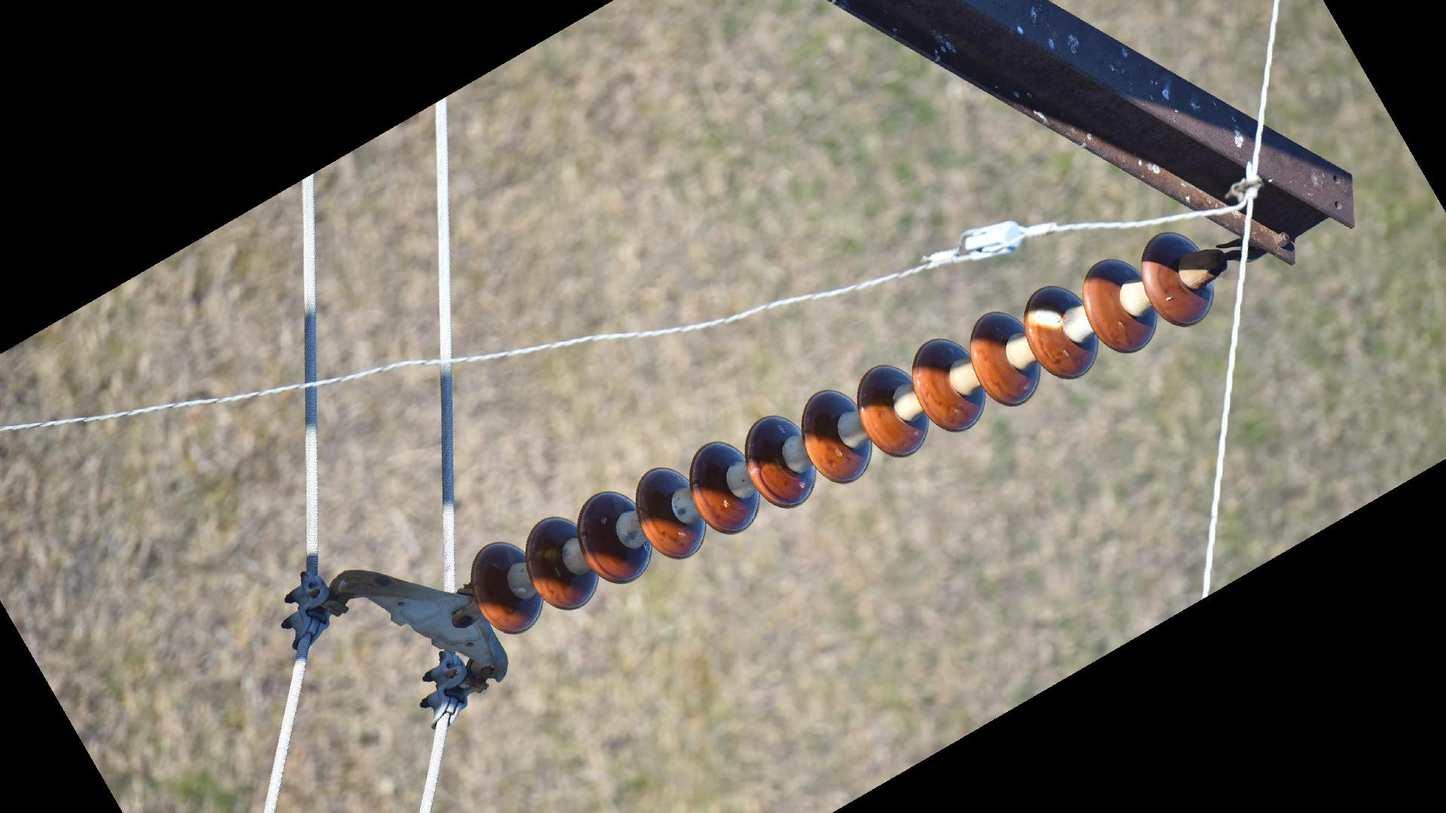insulator: (467, 227, 1221, 639)
insulator_flashover: (1024, 307, 1066, 332)
